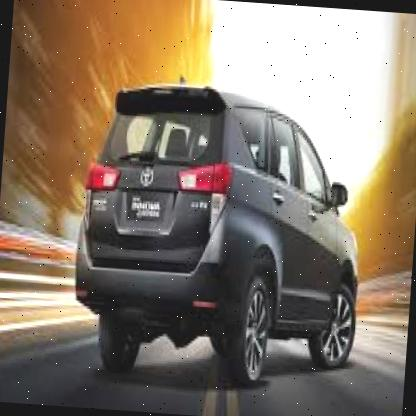car: (54, 69, 382, 404)
